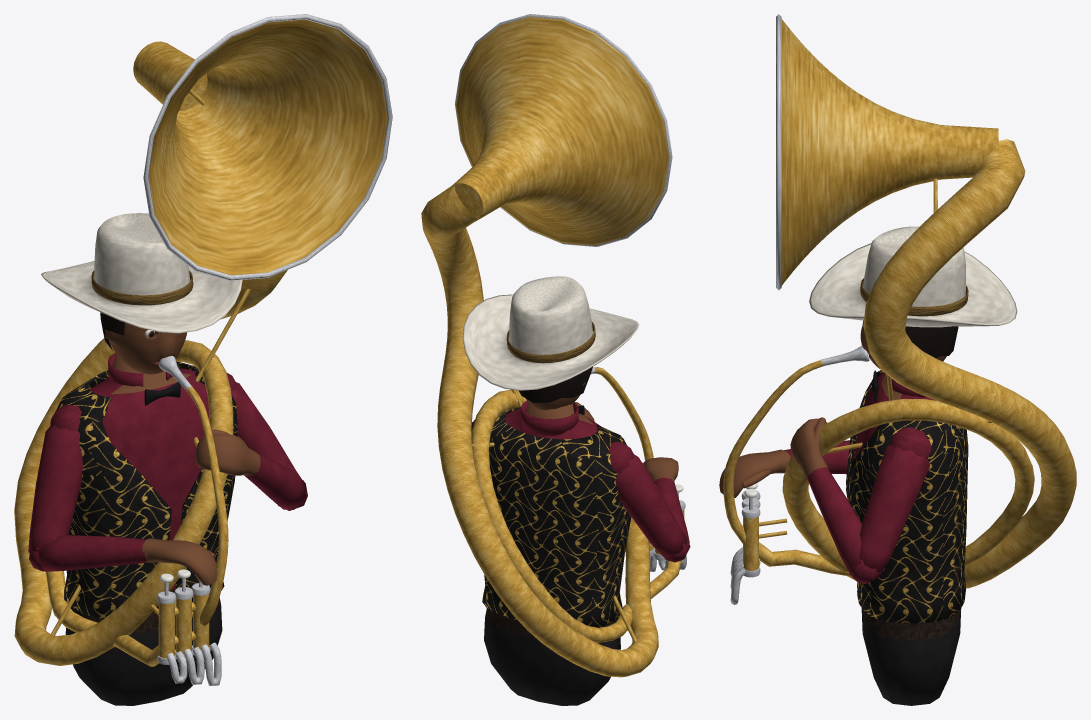
The model's file is torso.obj.
The picture shows the model from 3 angles, left to right: view 1: azimuth 30°, elevation 25°; view 2: azimuth 150°, elevation 25°; view 3: azimuth 270°, elevation 25°; orthographic projection. The views are drawn at different scales.
Parts seen in each view (by area): view 1: tuba_Tuba, tuba_Torso, tuba_Chaleco, tuba_Sombrero, tuba_BrazoDer, tuba_AntebrazoDer, tuba_Cabeza, tuba_BrazoIzq, tuba_ManoDer, tuba_ManoIzq, tuba_AntebrazoIzq, tuba_HombroDer (+1 smaller); view 2: tuba_Tuba, tuba_Chaleco, tuba_Sombrero, tuba_Torso, tuba_BrazoDer, tuba_Pelo, tuba_Cuello, tuba_AntebrazoDer, tuba_ManoDer, tuba_HombroDer; view 3: tuba_Tuba, tuba_Chaleco, tuba_Sombrero, tuba_Torso, tuba_BrazoIzq, tuba_AntebrazoIzq, tuba_ManoDer, tuba_ManoIzq, tuba_Pelo, tuba_HombroIzq, tuba_AntebrazoDer.
Boxes of the visible parts, bbox=[...] form: tuba_Tuba: bbox=[14, 14, 392, 685]; tuba_Torso: bbox=[65, 352, 222, 705]; tuba_Chaleco: bbox=[56, 361, 237, 618]; tuba_Sombrero: bbox=[41, 213, 242, 333]; tuba_BrazoDer: bbox=[28, 425, 83, 552]; tuba_AntebrazoDer: bbox=[38, 535, 158, 571]; tuba_Cabeza: bbox=[105, 322, 186, 374]; tuba_BrazoIzq: bbox=[231, 382, 301, 478]; tuba_ManoDer: bbox=[142, 538, 216, 585]; tuba_ManoIzq: bbox=[195, 429, 260, 475]; tuba_AntebrazoIzq: bbox=[243, 454, 307, 509]; tuba_HombroDer: bbox=[50, 404, 81, 430]; tuba_Tuba: bbox=[421, 14, 686, 677]; tuba_Chaleco: bbox=[482, 407, 631, 627]; tuba_Sombrero: bbox=[462, 276, 638, 390]; tuba_Torso: bbox=[484, 401, 620, 705]; tuba_BrazoDer: bbox=[615, 454, 687, 558]; tuba_Pelo: bbox=[519, 367, 592, 402]; tuba_Cuello: bbox=[521, 400, 578, 435]; tuba_AntebrazoDer: bbox=[654, 477, 689, 543]; tuba_ManoDer: bbox=[642, 457, 678, 481]; tuba_HombroDer: bbox=[608, 441, 633, 473]; tuba_Tuba: bbox=[723, 14, 1076, 604]; tuba_Chaleco: bbox=[846, 370, 968, 623]; tuba_Sombrero: bbox=[809, 226, 1017, 327]; tuba_Torso: bbox=[854, 372, 961, 705]; tuba_BrazoIzq: bbox=[859, 445, 929, 574]; tuba_AntebrazoIzq: bbox=[804, 464, 861, 573]; tuba_ManoDer: bbox=[719, 449, 790, 497]; tuba_ManoIzq: bbox=[790, 417, 828, 480]; tuba_Pelo: bbox=[905, 326, 958, 358]; tuba_HombroIzq: bbox=[890, 427, 931, 459]; tuba_AntebrazoDer: bbox=[773, 440, 849, 474].
Size of the model in its own units: 0.7345 by 1.58 by 0.7463.
17 materials, 17 textured.
